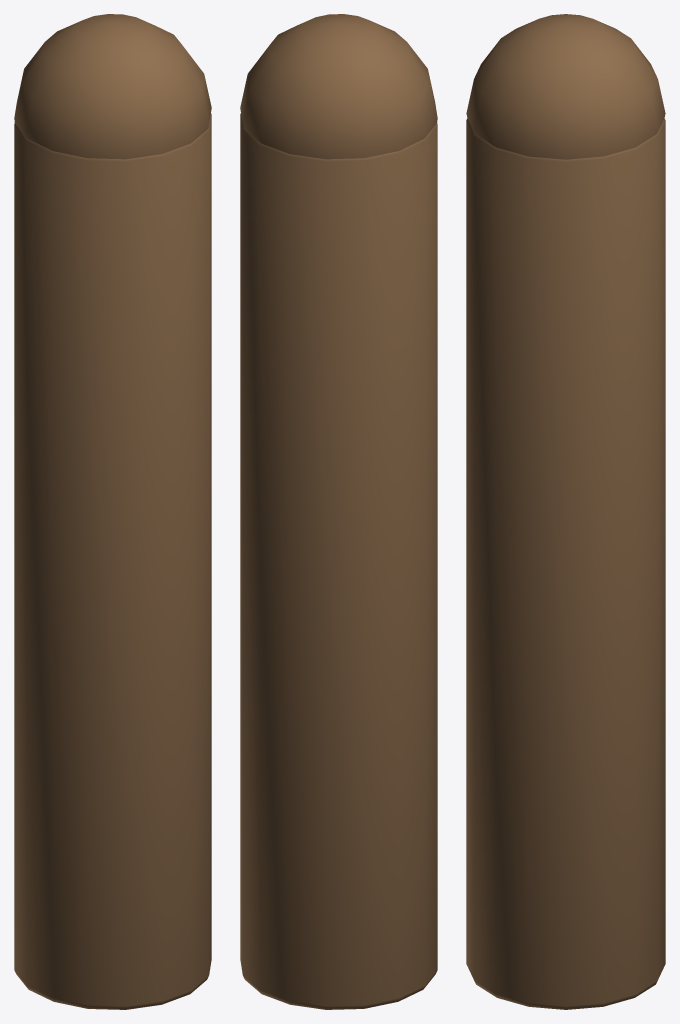
Rendered from pier_post.glb.
3 renders of one model, left to right at view 1: azimuth 30°, elevation 25°; view 2: azimuth 150°, elevation 25°; view 3: azimuth 270°, elevation 25°, orthographic.
Parts seen in each view (by area): view 1: Pier_Body; view 2: Pier_Body; view 3: Pier_Body.
Part boxes in pixels (box(x1,y1,x2,y2)): Pier_Body: box(14, 14, 211, 1009); Pier_Body: box(240, 14, 437, 1009); Pier_Body: box(466, 14, 665, 1009).
Bounding box in the file's own units: 0.4 × 2.1 × 0.4.
